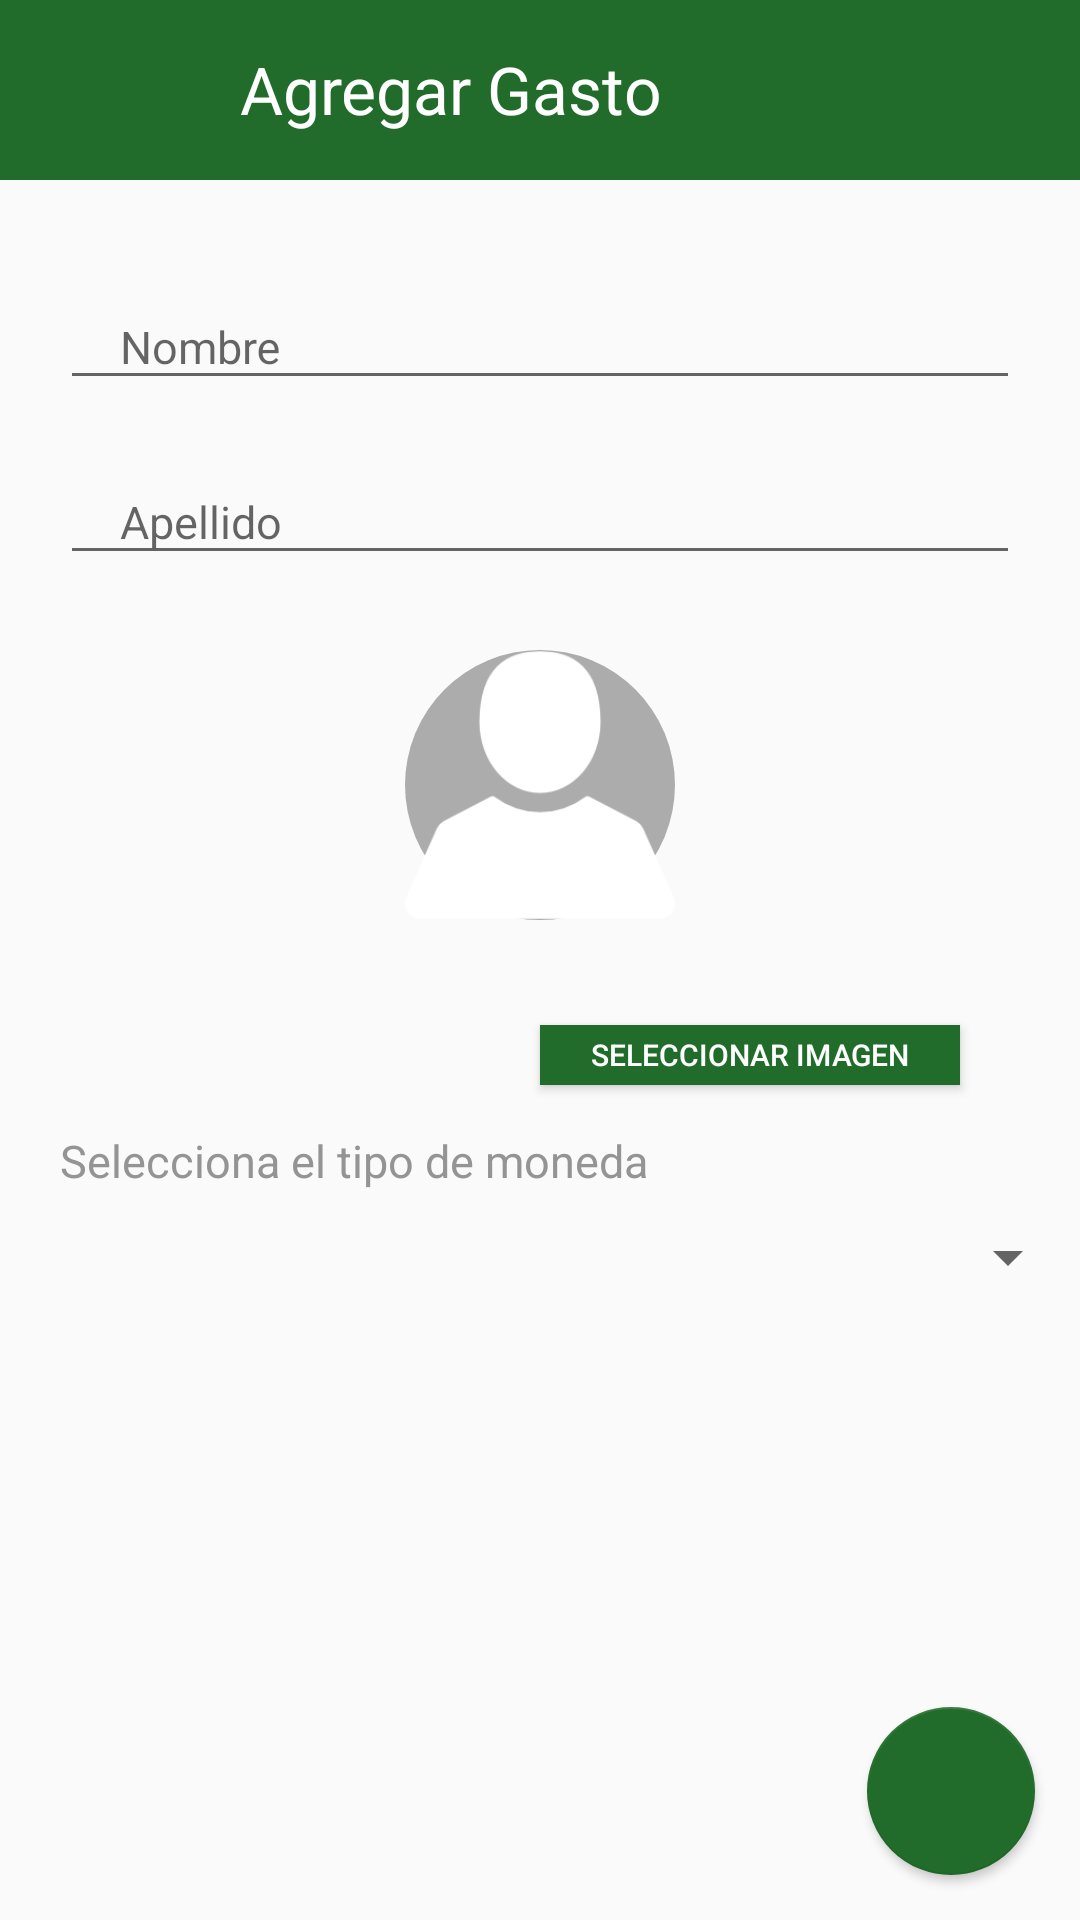

Named icons in this screenshot (1080x1920) and their bounding boxes, region(x1, y1, x2, y2):
user: region(405, 650, 675, 920)
